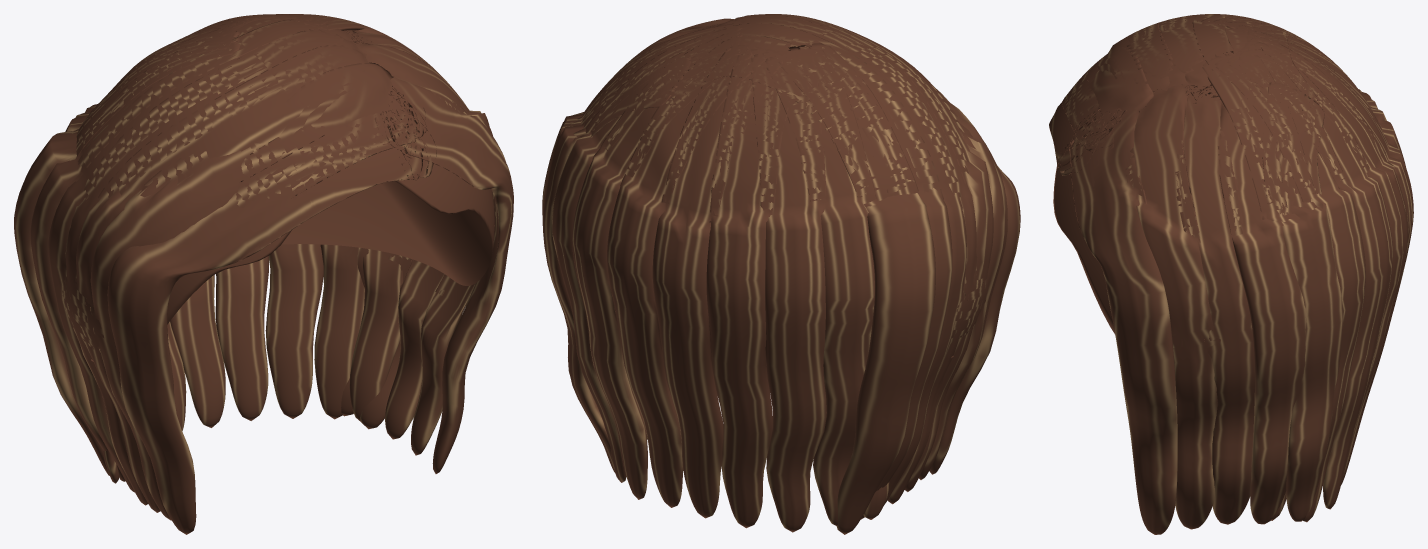
File: Highlights-69c2cb78c415252-hair.glb
The picture shows the model from 3 angles, left to right: view 1: azimuth 30°, elevation 25°; view 2: azimuth 150°, elevation 25°; view 3: azimuth 270°, elevation 25°; orthographic projection. The views are drawn at different scales.
Visible parts, largest first — view 1: 226 hair / Hair / sculpted 0.004, 226 hair / Hair / sculpted 1.008, 226 hair / Hair / sculpted 2.004, 226 hair / Hair / sculpted 1.007; view 2: 226 hair / Hair / sculpted 0.004, 226 hair / Hair / sculpted 2.004, 226 hair / Hair / sculpted 1.008; view 3: 226 hair / Hair / sculpted 1.008, 226 hair / Hair / sculpted 2.004, 226 hair / Hair / sculpted 0.004, 226 hair / Hair / sculpted 1.007.
Part boxes in pixels (x1,y1,x2,y2): 226 hair / Hair / sculpted 0.004: [14, 14, 456, 534]; 226 hair / Hair / sculpted 1.008: [48, 14, 513, 520]; 226 hair / Hair / sculpted 2.004: [30, 14, 496, 512]; 226 hair / Hair / sculpted 1.007: [91, 164, 494, 361]; 226 hair / Hair / sculpted 0.004: [572, 14, 1020, 534]; 226 hair / Hair / sculpted 2.004: [542, 14, 993, 525]; 226 hair / Hair / sculpted 1.008: [542, 15, 1007, 532]; 226 hair / Hair / sculpted 1.008: [1062, 14, 1408, 534]; 226 hair / Hair / sculpted 2.004: [1085, 14, 1413, 529]; 226 hair / Hair / sculpted 0.004: [1049, 14, 1405, 524]; 226 hair / Hair / sculpted 1.007: [1053, 165, 1114, 333].
Bounding box in the file's own units: 1.02 × 1.07 × 0.8091.
Materials: 4 (4 with a texture image).
